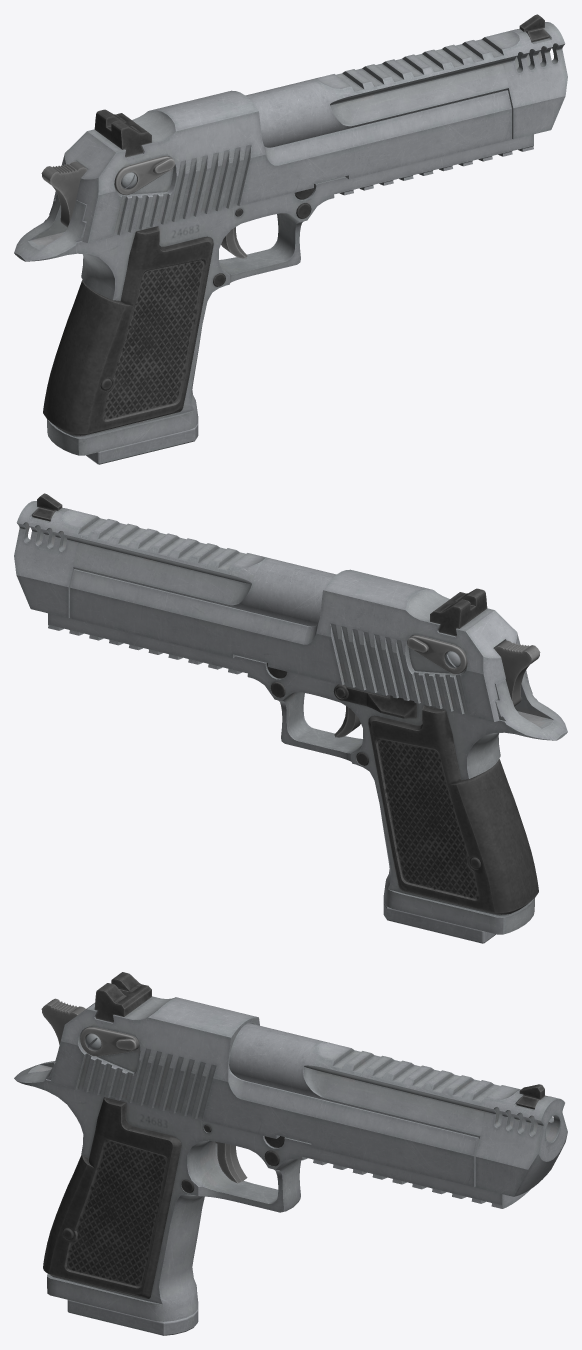
The model's file is deagle.glb.
3 views of the same model, one above another, from view 1: azimuth 30°, elevation 25°; view 2: azimuth 150°, elevation 25°; view 3: azimuth 330°, elevation 25° (orthographic).
Visible parts, largest first — view 1: Frame, Slide, Hammer, Magazine, Safety; view 2: Frame, Slide, Hammer, Magazine, SlideStop, Safety; view 3: Frame, Slide, Magazine, Safety, Hammer, Trigger.
Part boxes in pixels (box(x1,y1,x2,y2)): Frame: box(14, 14, 567, 455); Slide: box(53, 90, 511, 242); Hammer: box(41, 161, 87, 227); Magazine: box(86, 423, 198, 464); Safety: box(114, 156, 174, 195); Frame: box(14, 493, 567, 934); Slide: box(70, 569, 528, 721); Hammer: box(494, 640, 540, 706); Magazine: box(383, 902, 495, 943); SlideStop: box(333, 684, 416, 718); Safety: box(407, 635, 467, 674); Frame: box(14, 1023, 567, 1321); Slide: box(50, 972, 479, 1187); Magazine: box(67, 1300, 198, 1335); Safety: box(80, 1026, 139, 1056); Hammer: box(41, 998, 85, 1044); Trigger: box(215, 1141, 247, 1183).
Bounding box in the file's own units: 0.27 × 0.1584 × 0.0353.
Materials: 6 (6 with a texture image).
